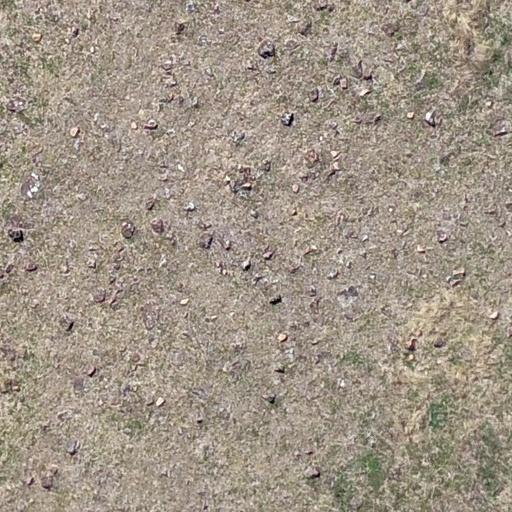stone: (336, 286, 360, 304), (490, 119, 511, 138), (258, 38, 277, 58), (59, 313, 77, 331), (6, 98, 26, 114), (120, 221, 136, 239), (65, 438, 81, 456), (198, 233, 214, 250), (280, 109, 295, 127), (297, 21, 313, 37), (150, 218, 166, 234), (424, 110, 437, 127), (308, 87, 321, 103), (92, 290, 106, 304), (303, 466, 320, 477), (405, 338, 418, 351), (303, 246, 317, 258), (326, 166, 340, 178), (174, 22, 186, 36), (145, 197, 157, 211), (269, 293, 282, 305), (451, 268, 466, 278), (24, 262, 38, 272), (86, 366, 97, 378), (42, 476, 53, 488), (264, 394, 276, 405), (70, 126, 80, 138), (262, 250, 274, 260), (241, 259, 251, 271), (274, 362, 284, 374), (145, 120, 159, 128), (438, 232, 448, 243), (32, 32, 42, 43), (450, 278, 461, 288), (360, 89, 372, 98), (339, 77, 348, 89), (363, 70, 375, 79), (489, 310, 499, 320), (416, 244, 426, 254), (155, 397, 165, 407), (278, 333, 288, 343), (86, 259, 96, 269), (330, 76, 340, 86), (165, 78, 177, 86), (250, 208, 258, 220), (291, 183, 300, 193), (246, 60, 255, 70), (162, 61, 172, 70), (185, 201, 194, 211), (358, 248, 367, 258), (330, 150, 341, 158), (241, 182, 253, 189), (180, 297, 190, 305), (332, 161, 340, 171), (223, 240, 231, 250), (318, 2, 328, 10), (326, 54, 336, 62), (406, 111, 415, 119), (130, 121, 138, 130), (361, 234, 369, 243), (484, 208, 496, 214), (108, 275, 117, 283), (310, 285, 316, 297), (286, 265, 296, 272), (310, 339, 320, 346), (192, 96, 198, 107), (407, 354, 415, 362), (396, 228, 404, 236), (485, 101, 494, 108), (158, 96, 168, 102), (345, 260, 352, 268), (331, 122, 338, 130), (329, 48, 338, 54), (266, 69, 276, 74), (113, 262, 120, 269), (80, 194, 88, 200), (304, 449, 313, 454), (338, 248, 344, 255), (291, 209, 297, 216), (197, 416, 203, 423)
